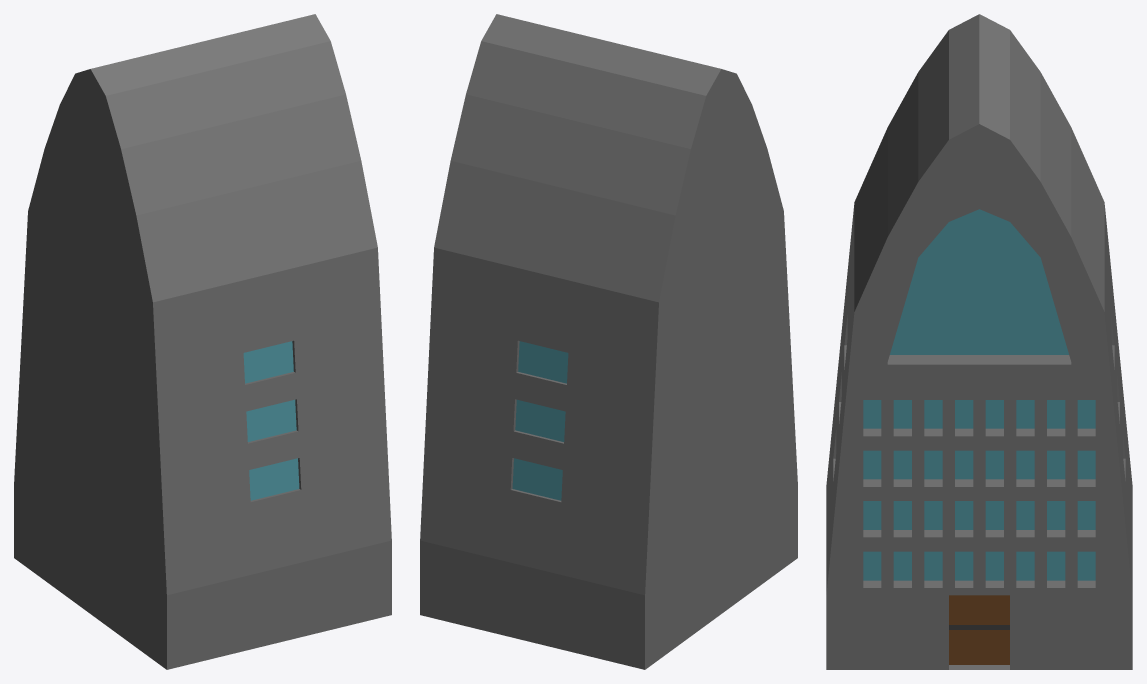
File: building_5.fbx
3 views of the same model, side by side, from view 1: azimuth 30°, elevation 25°; view 2: azimuth 150°, elevation 25°; view 3: azimuth 270°, elevation 25° (orthographic).
Parts seen in each view (by area): view 1: Building8; view 2: Building8; view 3: Building8.
Part boxes in pixels (left/top/right/bottom): Building8: left=14, top=14, right=391, bottom=669; Building8: left=420, top=14, right=797, bottom=669; Building8: left=826, top=14, right=1132, bottom=669.
Bounding box in the file's own units: 791 × 1789 × 909.
